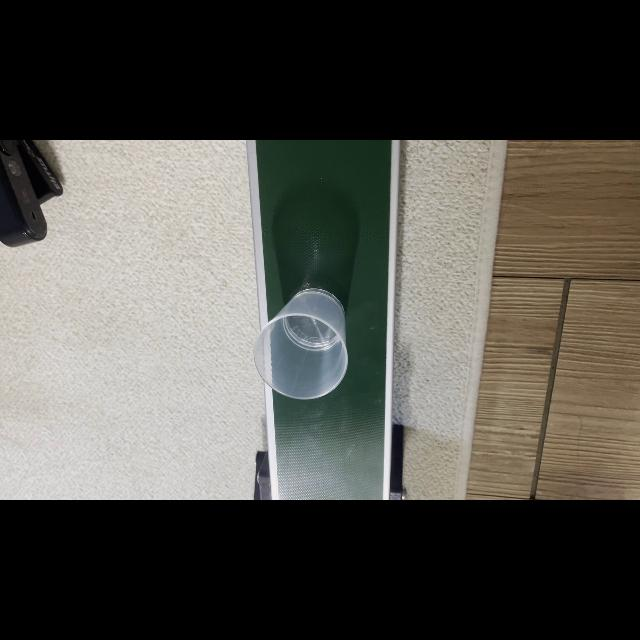clean: (252, 290, 350, 400)
